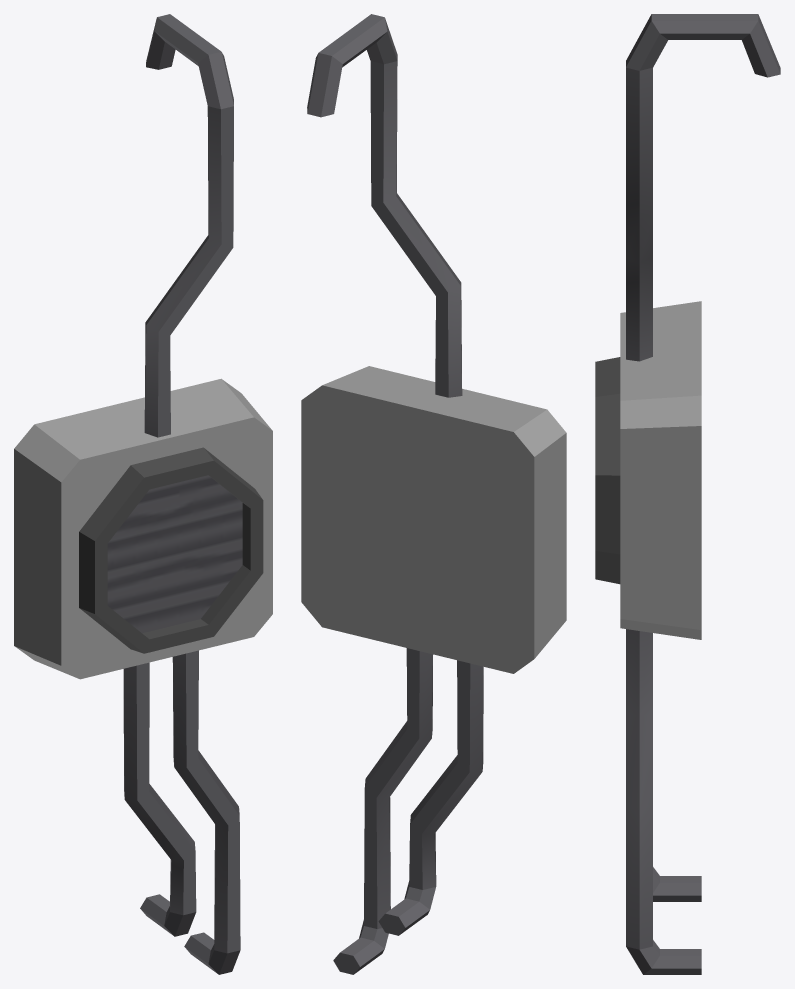
Rendered from city_SM_Prop_WallAttach_Vent_03.gltf.
3 renders of one model, left to right at view 1: azimuth 30°, elevation 25°; view 2: azimuth 150°, elevation 25°; view 3: azimuth 270°, elevation 25°, orthographic. The views are drawn at different scales.
Visible parts, largest first — view 1: SM_Prop_WallAttach_Vent_03; view 2: SM_Prop_WallAttach_Vent_03; view 3: SM_Prop_WallAttach_Vent_03.
Boxes of the visible parts, x1,y1,x2,y2 form: SM_Prop_WallAttach_Vent_03: (14,14,272,974); SM_Prop_WallAttach_Vent_03: (301,14,566,974); SM_Prop_WallAttach_Vent_03: (595,14,780,974).
Bounding box in the file's own units: 0.7767 × 3 × 0.5292.
1 material, 1 textured.
